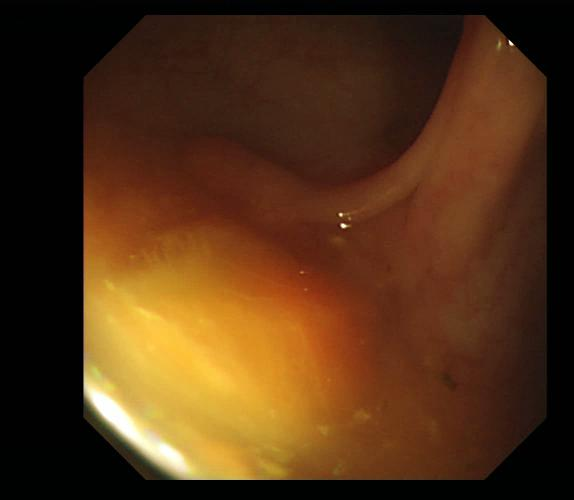polyp: (181, 130, 422, 219)
